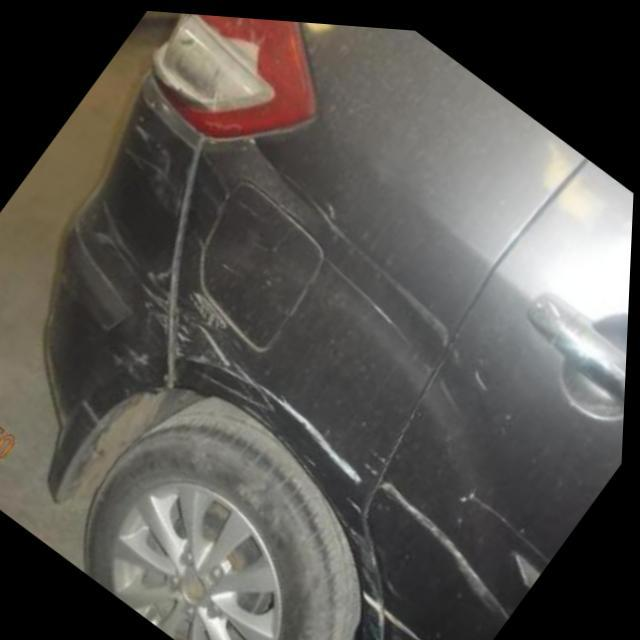lamp broken: (139, 10, 274, 115)
rub: (174, 279, 372, 482), (339, 488, 388, 585), (90, 213, 143, 281), (117, 122, 174, 181), (102, 335, 150, 382)
scratch: (230, 126, 491, 393), (217, 143, 460, 408), (379, 465, 518, 627), (141, 140, 210, 384), (460, 471, 558, 562), (364, 583, 442, 640), (83, 389, 109, 426)
